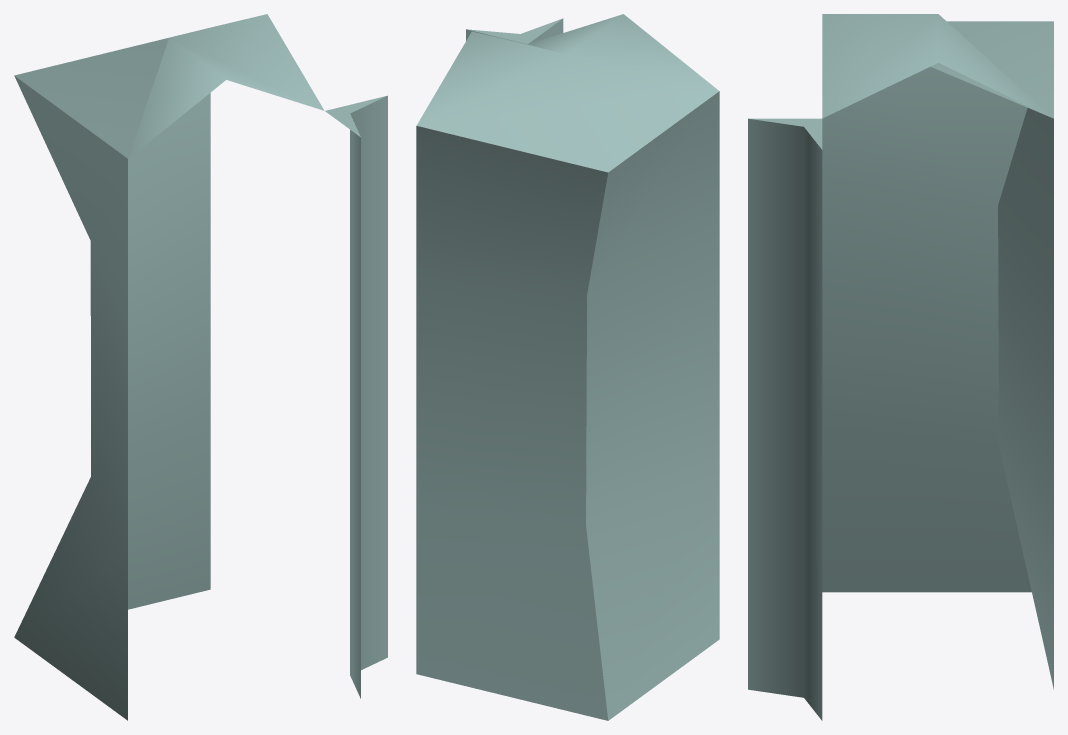
The model's file is BRailTrim90.fbx.
3 renders of one model, left to right at view 1: azimuth 30°, elevation 25°; view 2: azimuth 150°, elevation 25°; view 3: azimuth 270°, elevation 25°, orthographic. The views are drawn at different scales.
Parts seen in each view (by area): view 1: BRailTrim90; view 2: BRailTrim90; view 3: BRailTrim90.
Part boxes in pixels (bbox=[...]): BRailTrim90: bbox=[14, 14, 387, 720]; BRailTrim90: bbox=[416, 14, 719, 720]; BRailTrim90: bbox=[748, 14, 1053, 720].
Bounding box in the file's own units: 66.05 × 150 × 66.28.
